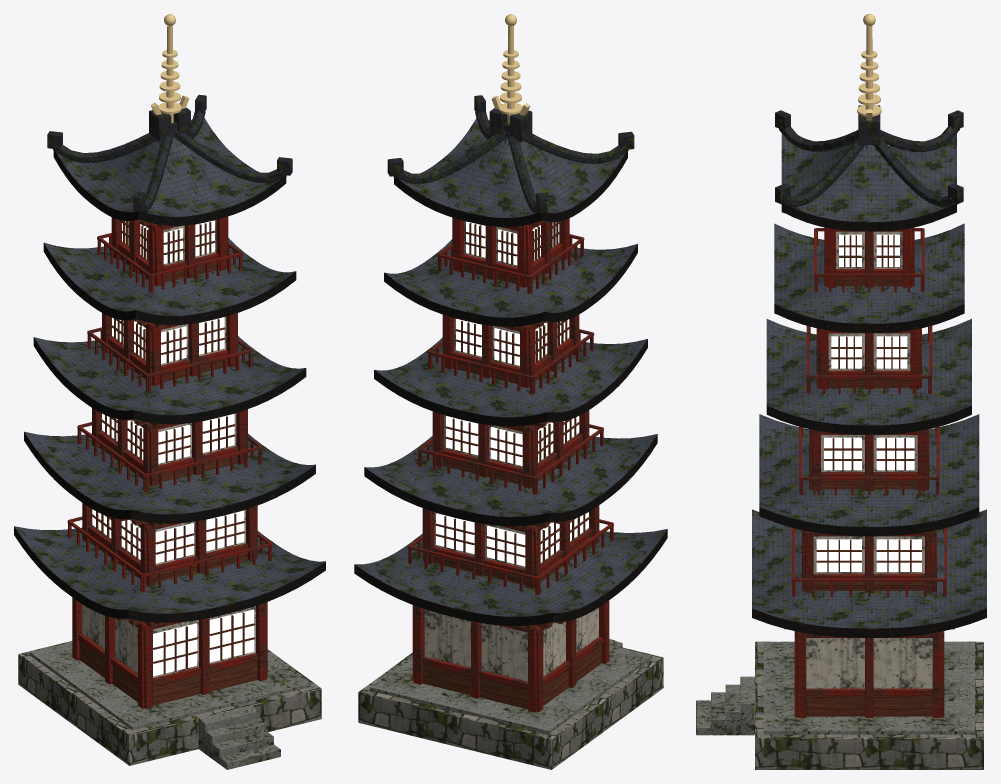
File: Pagoda_5F.fbx
3 renders of one model, left to right at view 1: azimuth 30°, elevation 25°; view 2: azimuth 150°, elevation 25°; view 3: azimuth 270°, elevation 25°, orthographic. The views are drawn at different scales.
Parts seen in each view (by area): view 1: Pagoda_5F_LOD0; view 2: Pagoda_5F_LOD0; view 3: Pagoda_5F_LOD0.
Part boxes in pixels (x1,y1,x2,y2): Pagoda_5F_LOD0: (14,14,325,769); Pagoda_5F_LOD0: (354,14,667,769); Pagoda_5F_LOD0: (696,14,986,769).
Size of what is drawn, in the model's own units: 8 by 26.59 by 9.9.
